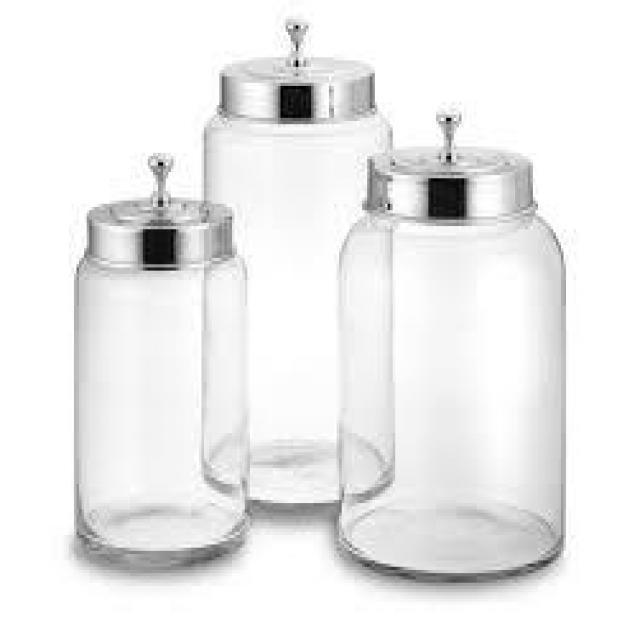glass: (332, 102, 572, 589)
